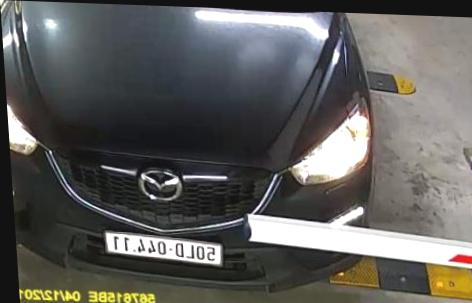License_Plate: (100, 229, 225, 262)
